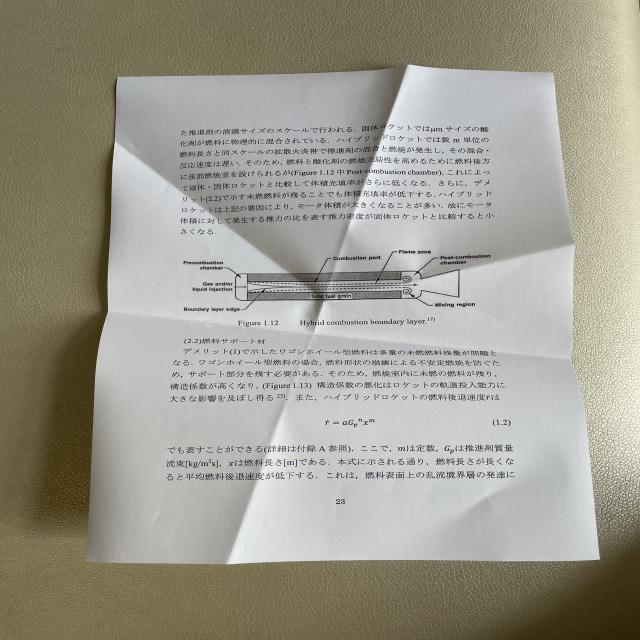document: (87, 66, 598, 564)
